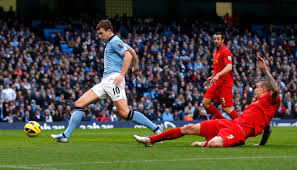soccer player: (50, 18, 163, 141), (130, 64, 282, 149), (202, 30, 240, 120)
soccerball: (23, 120, 42, 138)
